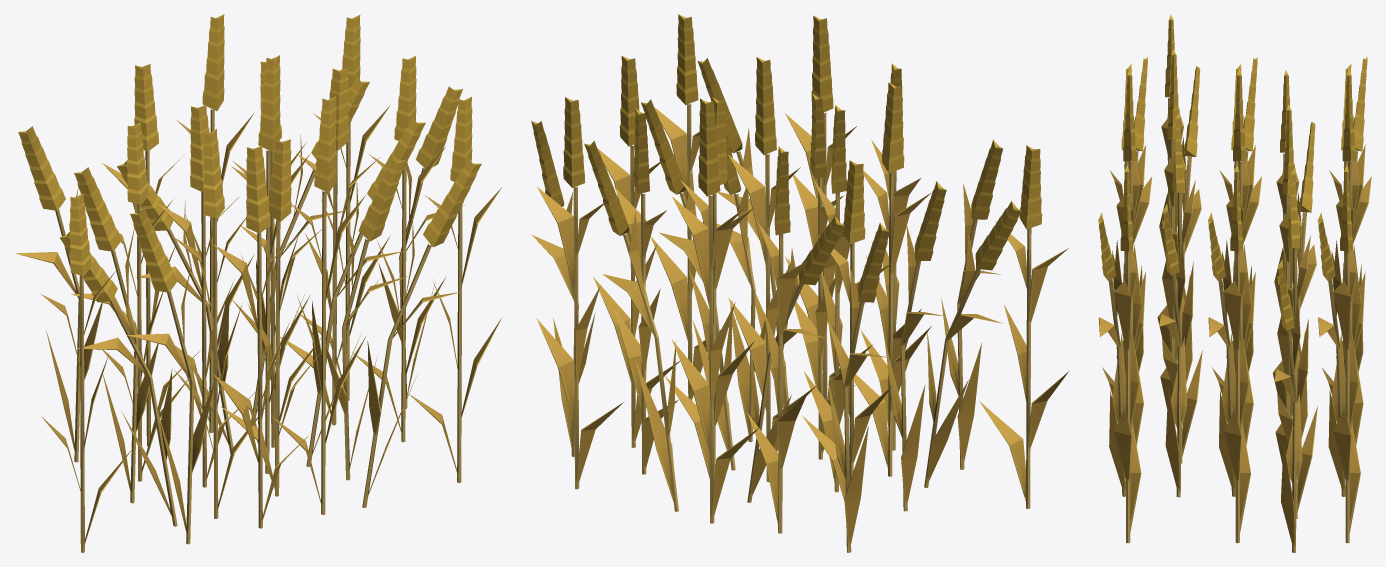
The model's file is whole_plant.glb.
The picture shows the model from 3 angles, left to right: view 1: azimuth 30°, elevation 25°; view 2: azimuth 150°, elevation 25°; view 3: azimuth 270°, elevation 25°; orthographic projection. The views are drawn at different scales.
Visible parts, largest first — view 1: FieldOfWheat_mesh; view 2: FieldOfWheat_mesh; view 3: FieldOfWheat_mesh.
Part boxes in pixels (box(x1,y1,x2,y2)): FieldOfWheat_mesh: box(15, 14, 501, 552); FieldOfWheat_mesh: box(531, 14, 1068, 552); FieldOfWheat_mesh: box(1098, 14, 1371, 552).
Size of the model in its own units: 2 by 1.66 by 1.01.
Materials: 1 (1 with a texture image).
